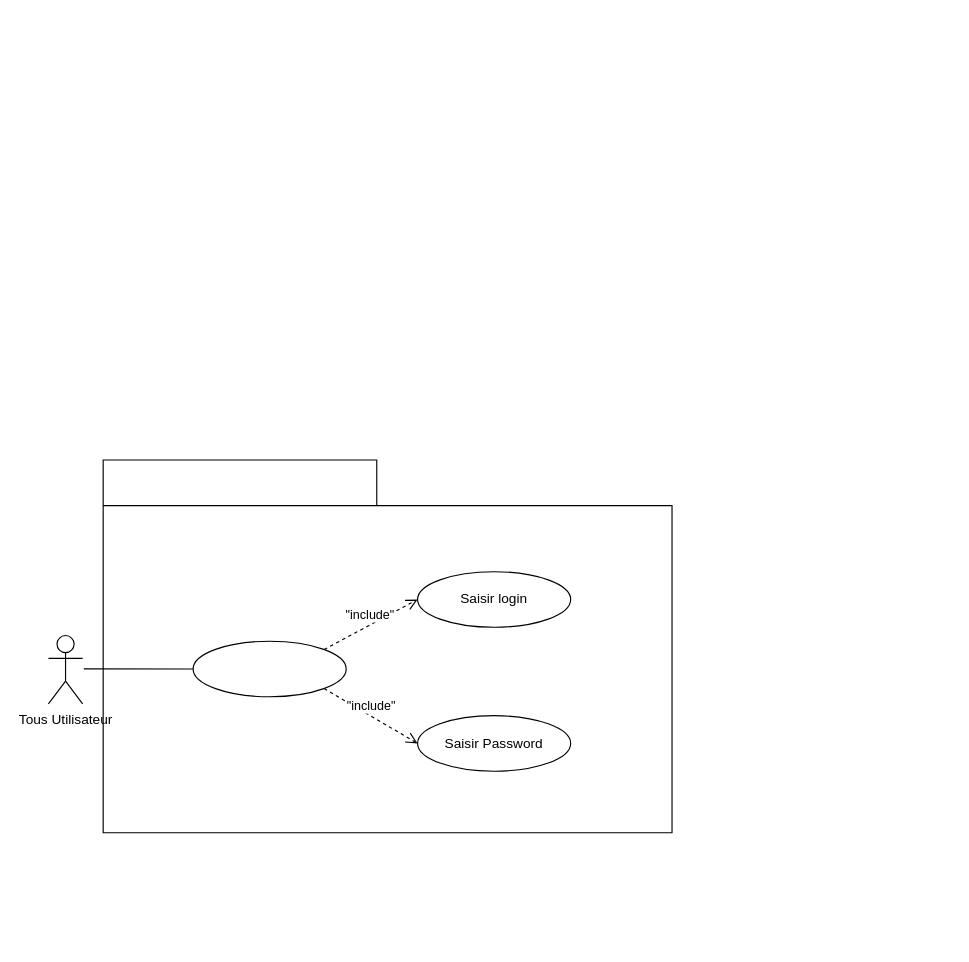
The diagram is 969 pixels wide and 962 high, and some of its shapes have lost their labels. The box of each missing label's shape, as (x1, y1, x2, y2) in pixels:
S'authentifier: (192, 640, 346, 697)
UCB0 : Se connecter - s'Authentifier: (102, 459, 672, 833)
